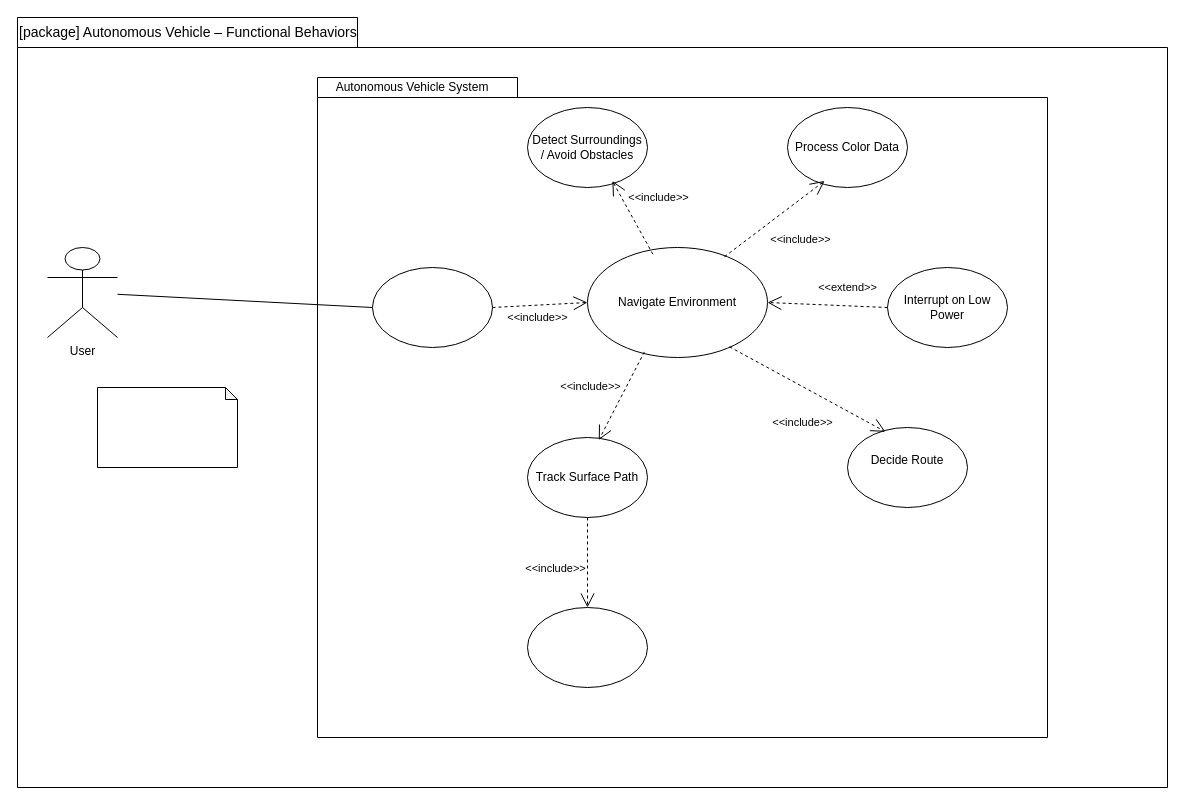
Image size: 1185x805. Some labels were removed from this diagram. The centre of each missing label's shape, as x and y in pixels:
"<<initial condition>> The user ensures system power-up and sensor readiness." belongs at (167,427).
"Control Speed" belongs at (587,647).
"switch on the system" belongs at (432,307).
